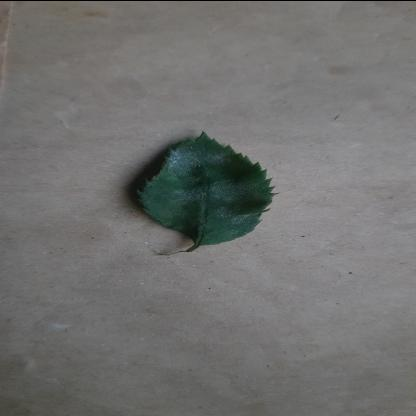powdery-mildew: (136, 130, 280, 246)
